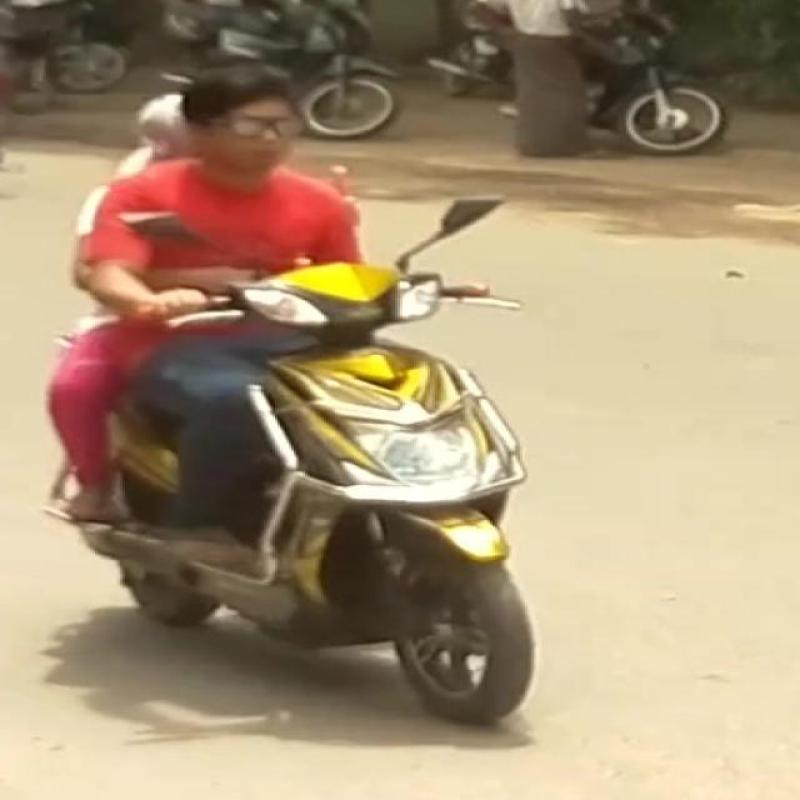nohelmet: (179, 42, 357, 182)
